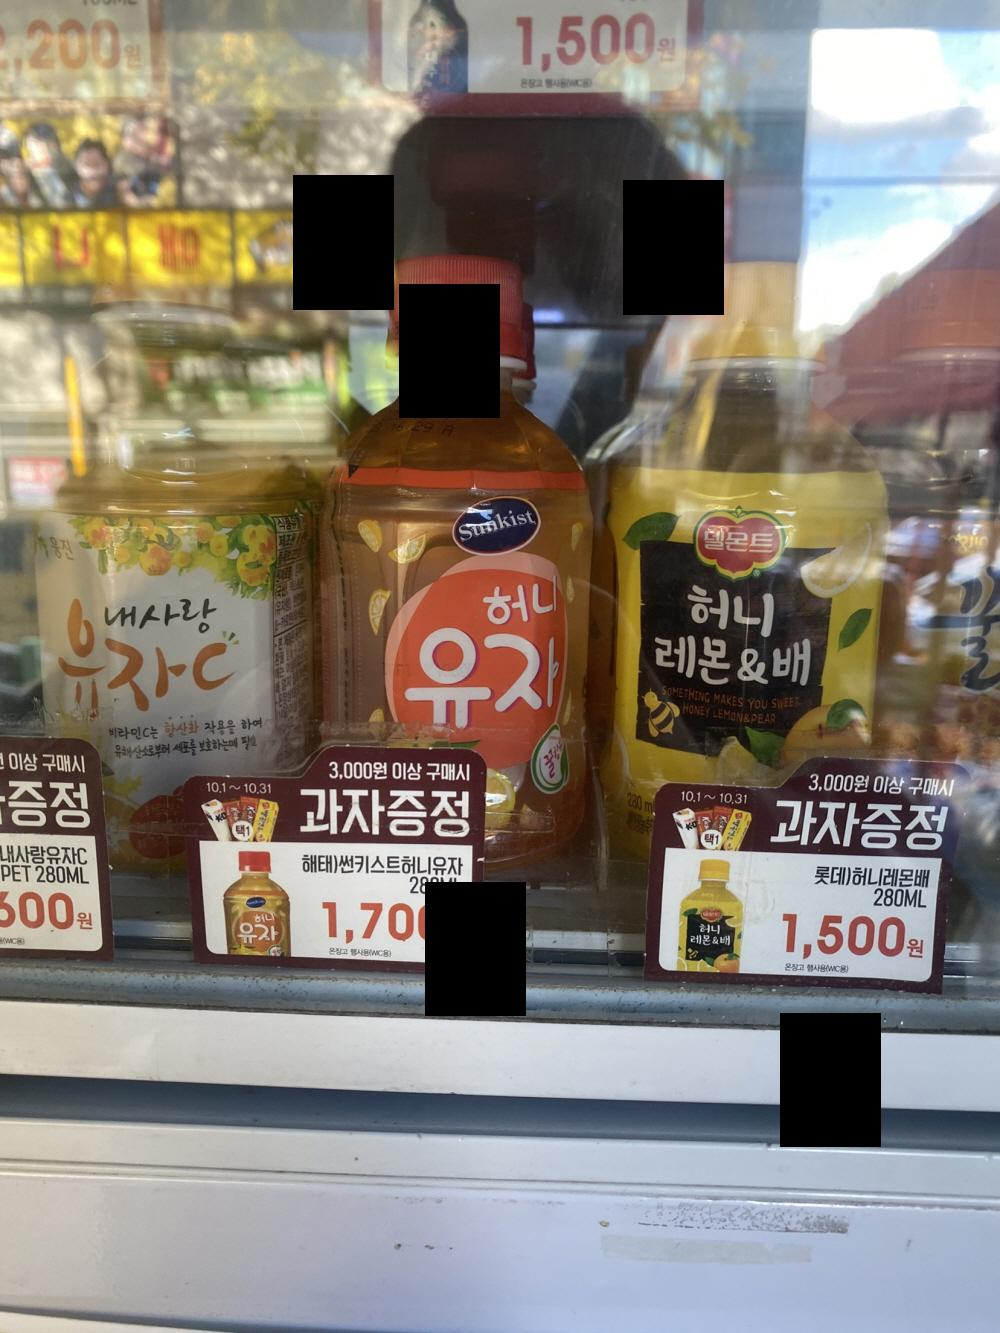honeyyuja: (301, 251, 603, 779)
